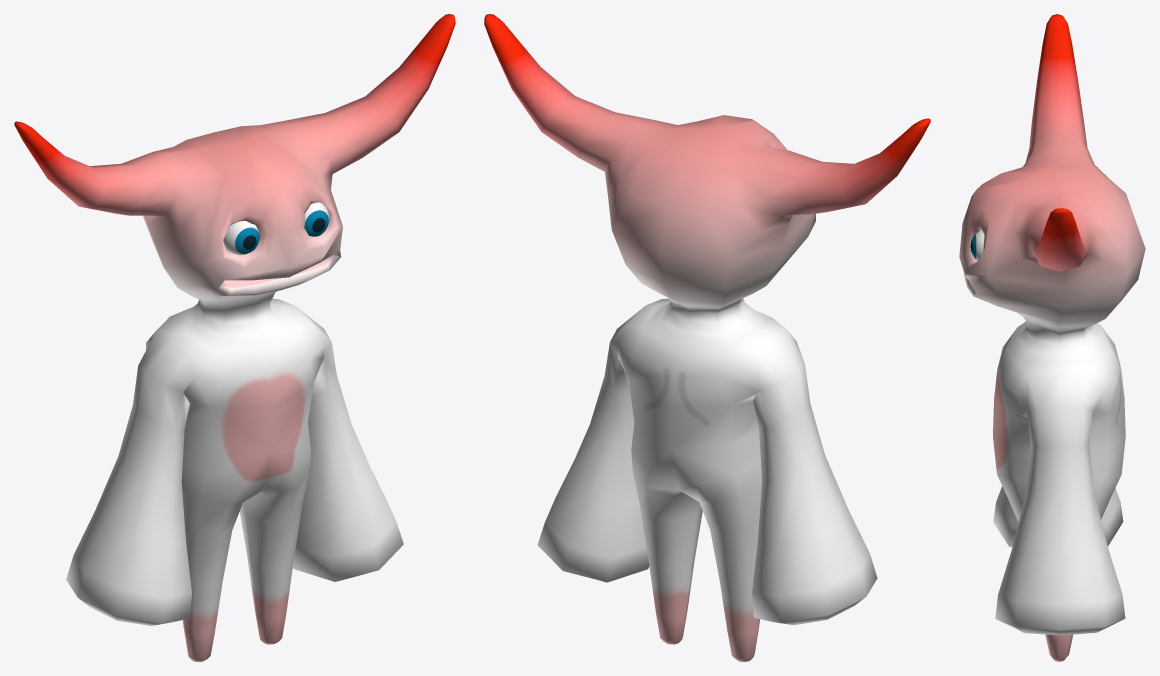
Rendered from frame2.obj.
3 views of the same model, side by side, from view 1: azimuth 30°, elevation 25°; view 2: azimuth 150°, elevation 25°; view 3: azimuth 270°, elevation 25° (orthographic). The views are drawn at different scales.
Visible parts, largest first — view 1: Body, Right_Eye, Left_Eye; view 2: Body; view 3: Body, Left_Eye.
Boxes of the visible parts, x1=… form: Body: x1=14, y1=14, x2=455, y2=661; Right_Eye: x1=223, y1=220, x2=259, y2=255; Left_Eye: x1=304, y1=202, x2=329, y2=236; Body: x1=484, y1=14, x2=930, y2=661; Body: x1=959, y1=14, x2=1145, y2=661; Left_Eye: x1=970, y1=230, x2=984, y2=260.
Bounding box in the file's own units: 14.06 × 17.81 × 5.65.
